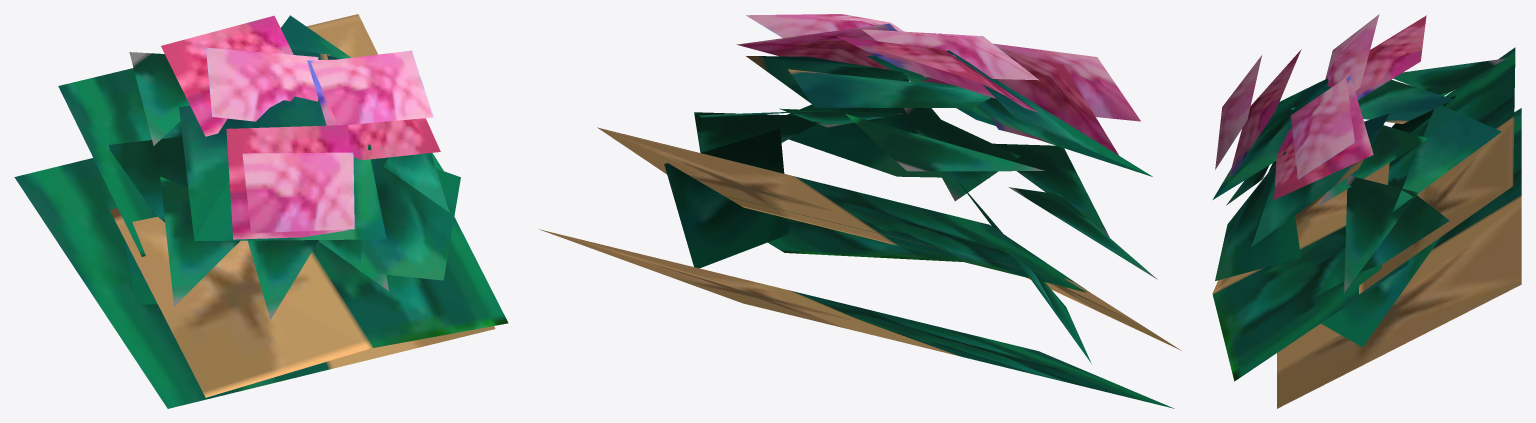
File: fg_bushC_2_pi.dae
The picture shows the model from 3 angles, left to right: view 1: azimuth 30°, elevation 25°; view 2: azimuth 150°, elevation 25°; view 3: azimuth 270°, elevation 25°; orthographic projection. The views are drawn at different scales.
Parts seen in each view (by area): view 1: fg_bushC_2_pi; view 2: fg_bushC_2_pi; view 3: fg_bushC_2_pi.
Part boxes in pixels (box(x1,y1,x2,y2)): fg_bushC_2_pi: box(14, 14, 508, 408); fg_bushC_2_pi: box(539, 14, 1181, 408); fg_bushC_2_pi: box(1212, 14, 1521, 408).
Size of the model in its own units: 47.83 by 36.01 by 35.4.
1 material, 1 textured.
